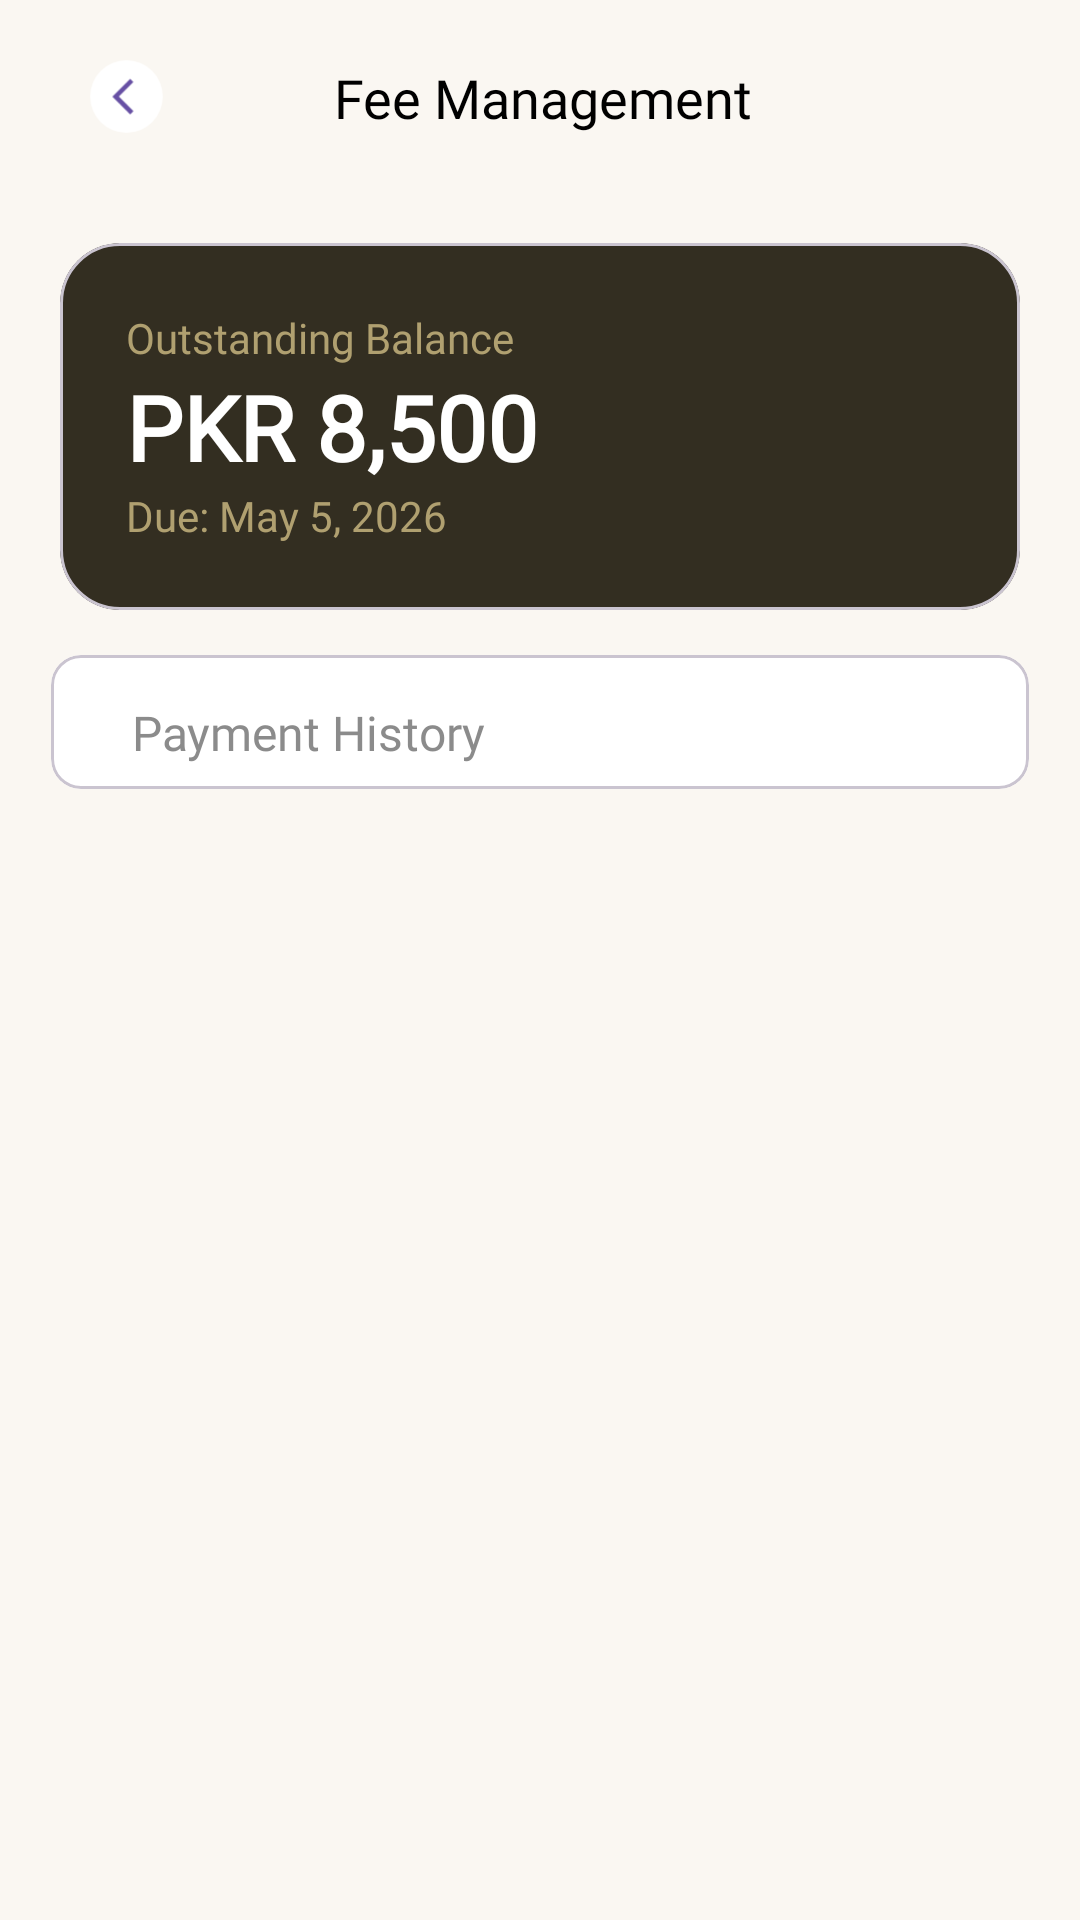

Point at icon controls on the screen. Image size 1080px×1920px, points as (x,y).
back: (126,96)
